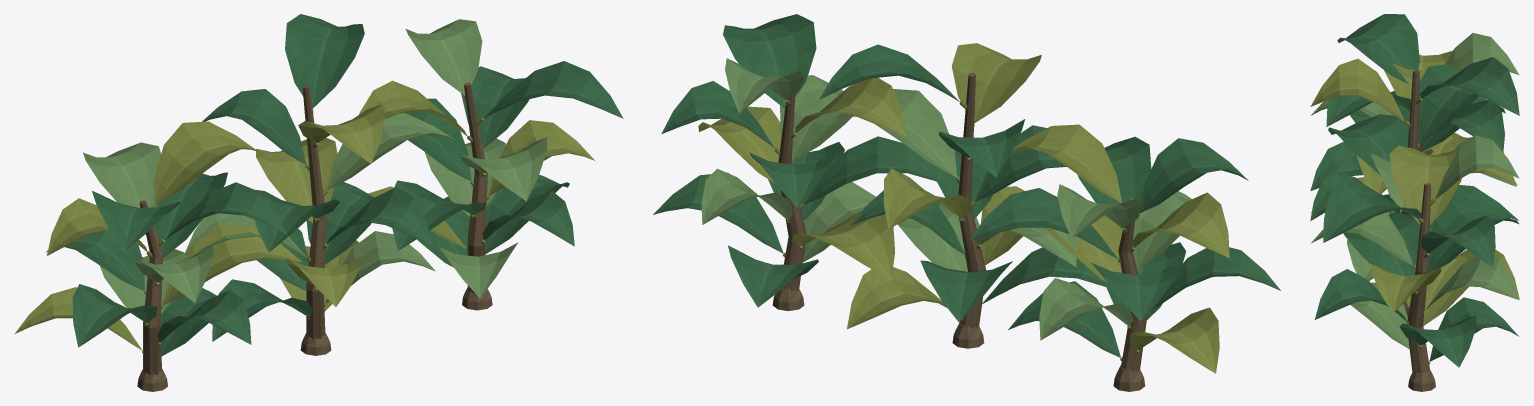
File: AST-BOT-002_pool_middle_02.glb
The picture shows the model from 3 angles, left to right: view 1: azimuth 30°, elevation 25°; view 2: azimuth 150°, elevation 25°; view 3: azimuth 270°, elevation 25°; orthographic projection. The views are drawn at different scales.
Parts seen in each view (by area): view 1: RT_AST-BOT-002_pool_middle_02__leaf_jade, RT_AST-BOT-002_pool_middle_02__leaf_olive, RT_AST-BOT-002_pool_middle_02__leaf_sage, RT_AST-BOT-002_pool_middle_02__bark; view 2: RT_AST-BOT-002_pool_middle_02__leaf_jade, RT_AST-BOT-002_pool_middle_02__leaf_olive, RT_AST-BOT-002_pool_middle_02__leaf_sage, RT_AST-BOT-002_pool_middle_02__bark; view 3: RT_AST-BOT-002_pool_middle_02__leaf_jade, RT_AST-BOT-002_pool_middle_02__leaf_olive, RT_AST-BOT-002_pool_middle_02__leaf_sage, RT_AST-BOT-002_pool_middle_02__bark.
Part boxes in pixels (x1,y1,x2,y2): RT_AST-BOT-002_pool_middle_02__leaf_jade: (46, 14, 623, 355); RT_AST-BOT-002_pool_middle_02__leaf_olive: (15, 80, 594, 353); RT_AST-BOT-002_pool_middle_02__leaf_sage: (83, 19, 547, 313); RT_AST-BOT-002_pool_middle_02__bark: (137, 82, 492, 391); RT_AST-BOT-002_pool_middle_02__leaf_jade: (653, 14, 1280, 357); RT_AST-BOT-002_pool_middle_02__leaf_olive: (698, 43, 1229, 373); RT_AST-BOT-002_pool_middle_02__leaf_sage: (701, 58, 1191, 340); RT_AST-BOT-002_pool_middle_02__bark: (772, 73, 1147, 391); RT_AST-BOT-002_pool_middle_02__leaf_jade: (1310, 14, 1519, 367); RT_AST-BOT-002_pool_middle_02__leaf_olive: (1310, 50, 1519, 363); RT_AST-BOT-002_pool_middle_02__leaf_sage: (1311, 33, 1519, 348); RT_AST-BOT-002_pool_middle_02__bark: (1401, 70, 1435, 391).
Bounding box in the file's own units: 2.03 × 1.02 × 0.74.
Materials: 4 (4 with a texture image).
